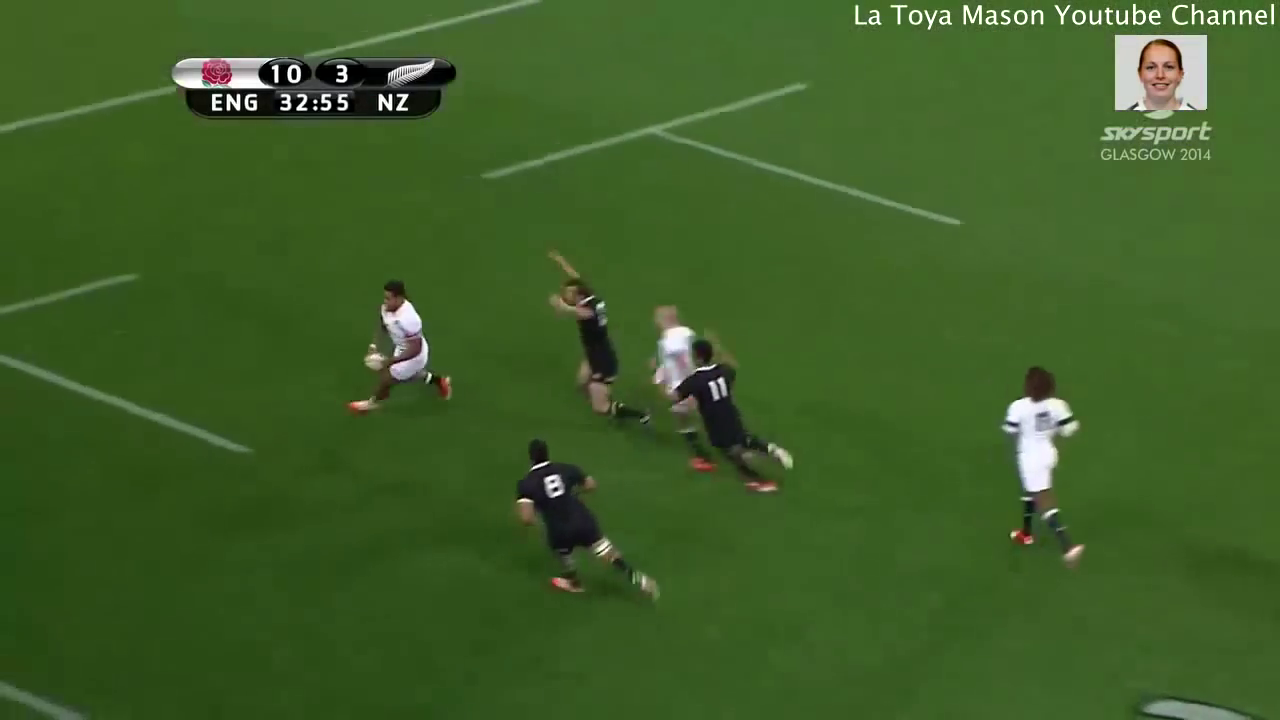ball: (359, 343, 395, 374)
player: (503, 439, 675, 606), (532, 232, 657, 452), (649, 332, 801, 501), (987, 357, 1103, 578), (340, 274, 464, 423), (641, 297, 730, 487)
